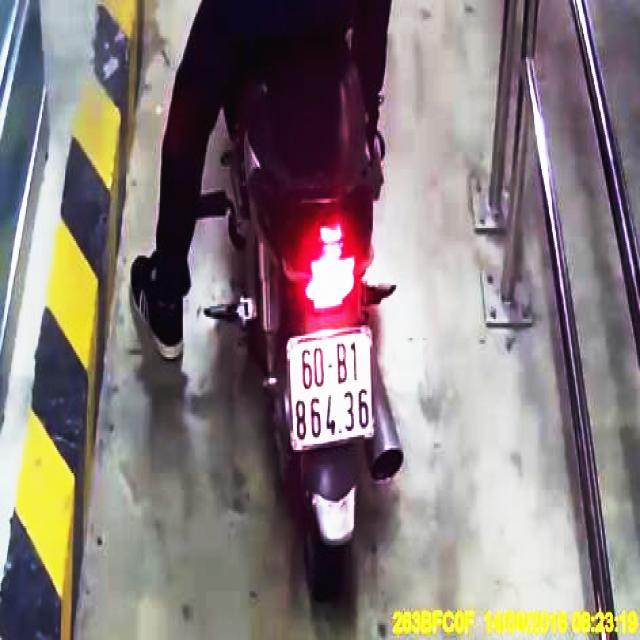license_plate: (290, 331, 373, 450)
